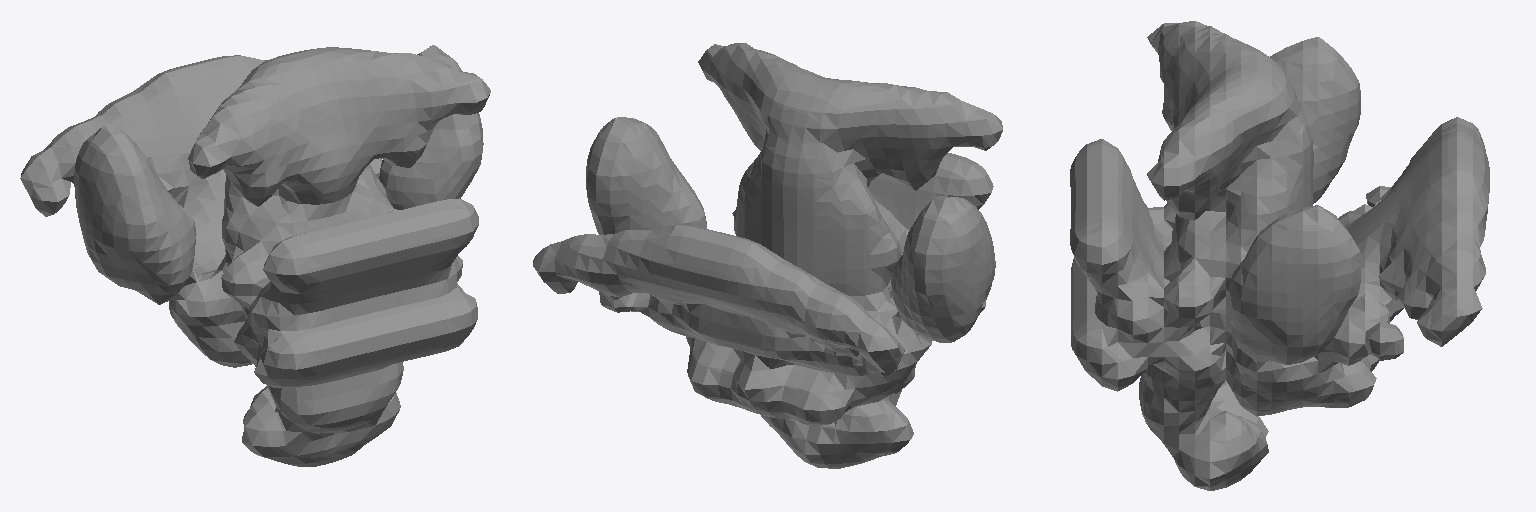
URDF robot description (cube.urdf):
<?xml version="0.0" ?> 
<robot name="cube.urdf"> 
<link name="legobrick"> 
<contact> 
<lateral_friction value="5.0"/> 
<rolling_friction value="0.0"/> 
<contact_cfm value="0.0"/> 
<contact_erp value="1.0"/> 
</contact> 
<inertial> 
<origin rpy="0 0 0" xyz="0.0 0.0 0.0"/> 
<mass value=".01"/> 
<inertia ixx="1" ixy="0" ixz="0" iyy="1" iyz="0" izz="1"/> 
</inertial> 
<visual> 
<origin rpy="1.570796 0 0" xyz="-0.025925631980604692 0.024954933696672548 -0.029386714270431408"/> 
<geometry> 
<mesh filename="U24_2.obj" scale="0.0005603692088916287 0.0005603692088916287 0.0005603692088916287"/> 
</geometry> 
<material name="yellow"> 
<color rgba="0.6 0.6 0.6 1"/> 
</material> 
</visual> 
<collision> 
<origin rpy="1.570796 0 0" xyz="-0.025925631980604692 0.024954933696672548 -0.029386714270431408"/> 
<geometry> 
<mesh filename="U24_2.obj" scale="0.0005603692088916287 0.0005603692088916287 0.0005603692088916287"/> 
</geometry> 
</collision> 
</link> 
</robot>

--- What the picture shows (computed from the rendered views, not written in the file) ---
3 views of the same robot in one strip: view 1: azimuth 30°, elevation 25°; view 2: azimuth 150°, elevation 25°; view 3: azimuth 270°, elevation 25° (orthographic).
Robot: cube.urdf — 1 links, 0 joints (none); root link legobrick; default pose: every joint at zero.
Links seen in each view (by area): view 1: legobrick; view 2: legobrick; view 3: legobrick.
Link boxes in pixels (box(x1,y1,x2,y2)): legobrick: box(20, 45, 490, 466); legobrick: box(533, 43, 1002, 468); legobrick: box(1070, 21, 1489, 490).
Size in the robot's own frame: 0.0564 by 0.0508 by 0.056 metres.
1 mesh visuals loaded from 1 distinct referenced files (1 OBJ).
